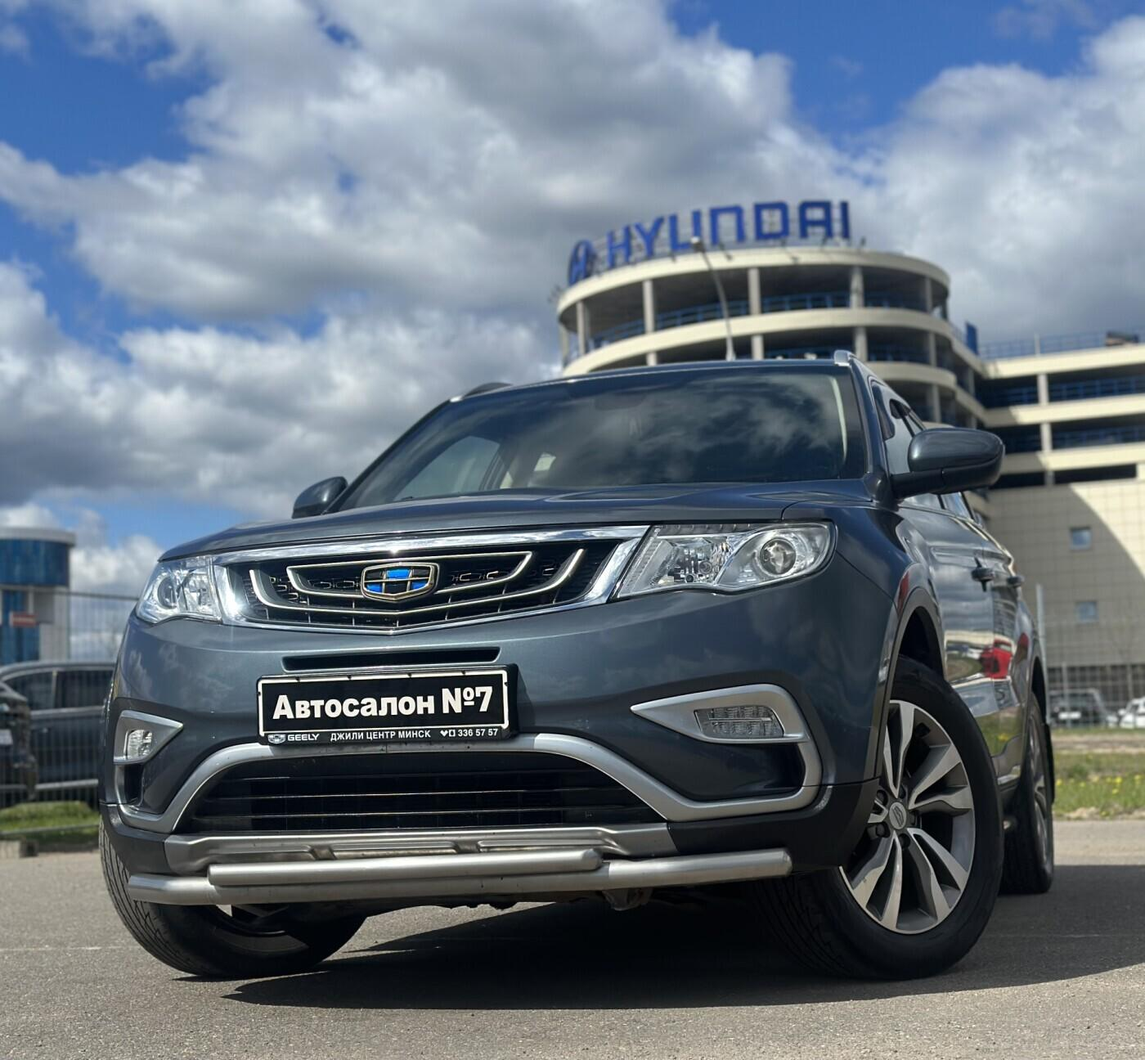Atlas_2016-2023: (86, 350, 1069, 987)
